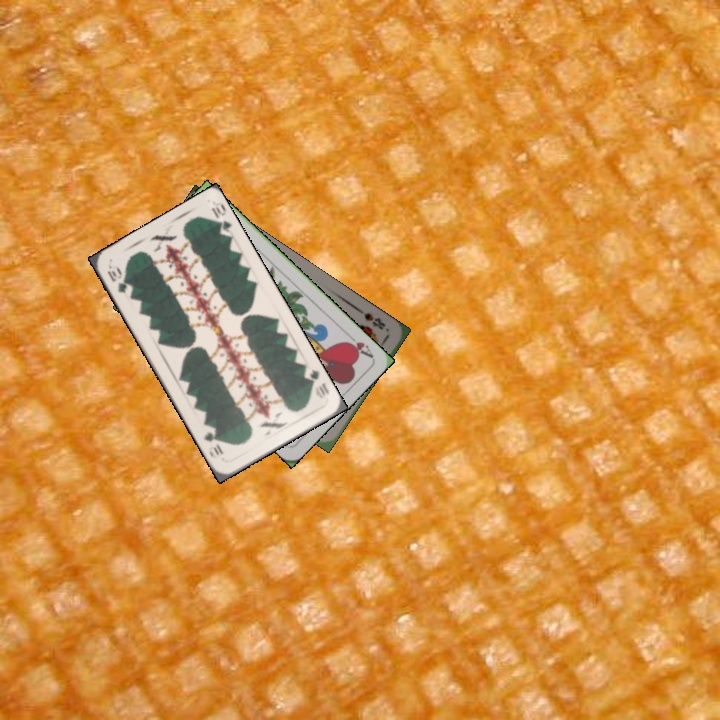G10: (302, 365, 332, 401), (103, 264, 131, 296)
HA: (341, 329, 376, 361)
S8: (355, 306, 388, 332)
